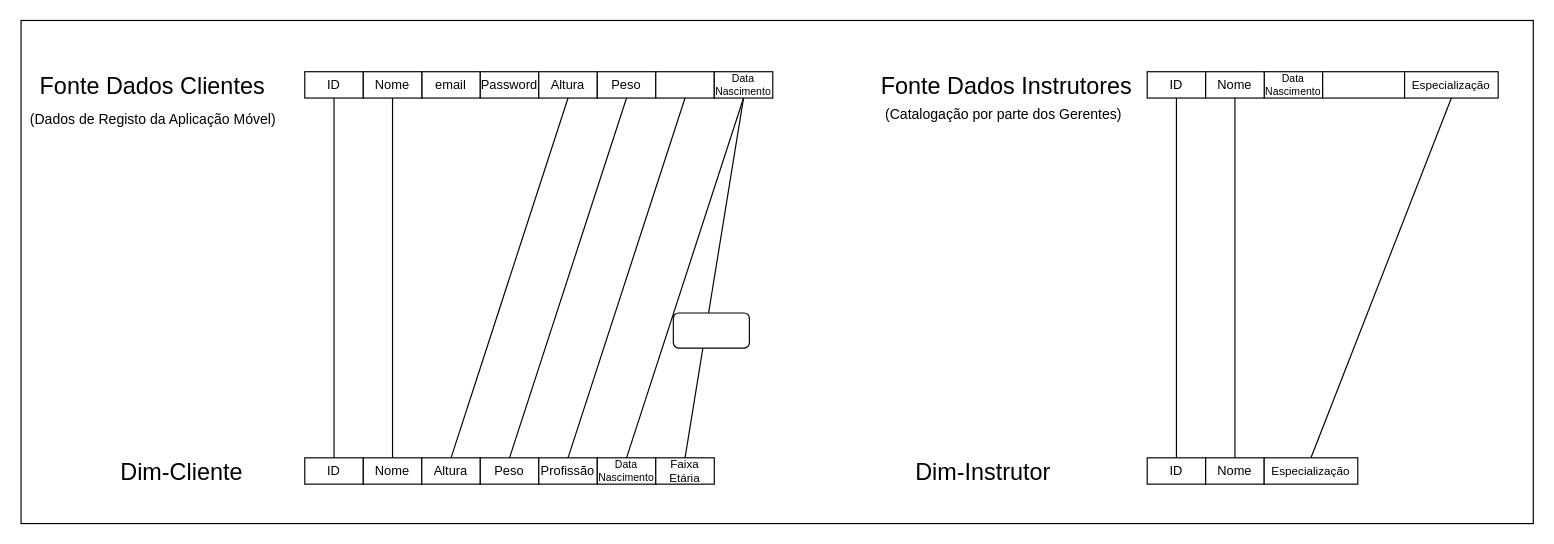
Some shapes in this 1554 by 544 pixel diagram are drawn without their labels. The shapes that lost their labels are listed below. From the top down, each one's centre as x and y in pixels, then its label:
At (x=684, y=84): "Profissao".
At (x=1363, y=84): "Competências Académicas".
At (x=710, y=330): "Binning por Idades".
